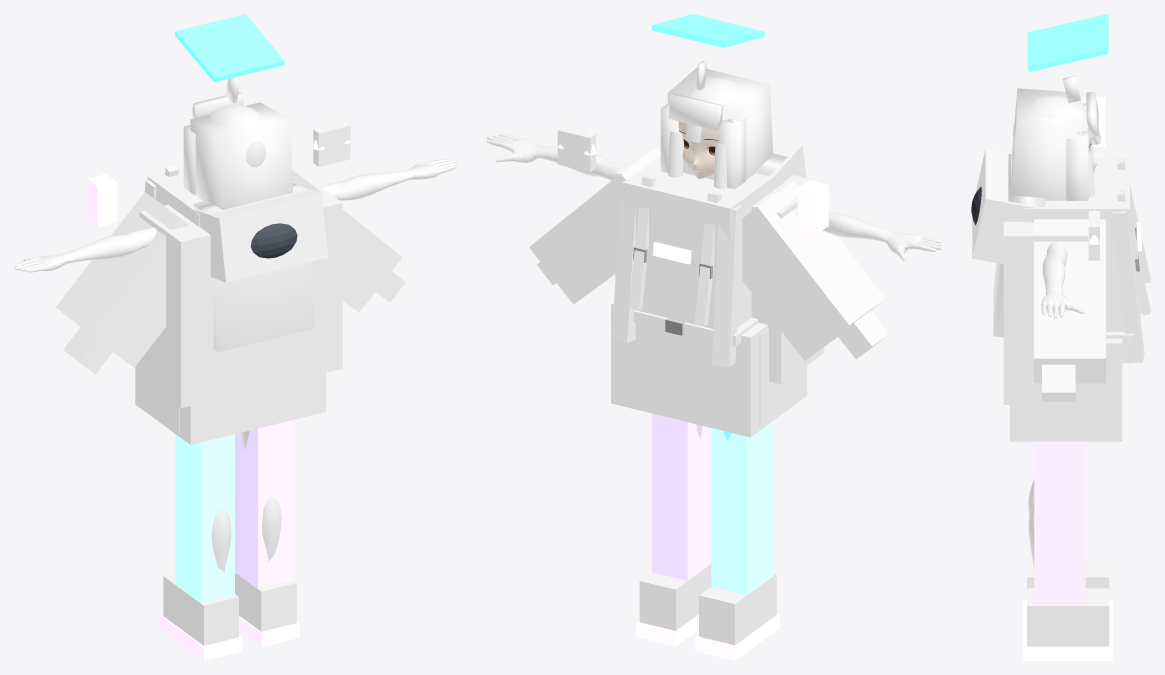
File: addy.glb
The picture shows the model from 3 angles, left to right: view 1: azimuth 30°, elevation 25°; view 2: azimuth 150°, elevation 25°; view 3: azimuth 270°, elevation 25°; orthographic projection. The views are drawn at different scales.
Parts seen in each view (by area): view 1: Geo_Jacket_Torso, Geo_Jacket_Sleeve_L, Geo_Stocking_L, Geo_Stocking_R, Body, Geo_Hair_Back, Geo_Hair_Back_Lower, Geo_Jacket_Hood, Geo_Skirt_Pleated, Geo_Prop_Halo, Geo_Jacket_Sleeve_R, Geo_Sneaker_L (+11 smaller); view 2: Geo_Jacket_Sleeve_L, Geo_Inner_Top, Geo_Skirt_Pleated, Geo_Stocking_L, Geo_Stocking_R, Geo_Jacket_Sleeve_R, Body, Geo_Sneaker_L, Geo_Hair_Back, Geo_Jacket_Lapel_L, Geo_Sneaker_R, Geo_Jacket_Torso (+17 smaller); view 3: Geo_Jacket_Sleeve_R, Geo_Stocking_R, Geo_Jacket_Torso, Geo_Skirt_Pleated, Geo_Hair_Back, Geo_Inner_Top, Geo_Sneaker_R, Geo_Jacket_Hood, Body, Geo_Prop_Halo, Geo_Jacket_Lapel_R, Geo_Hair_Side_R (+10 smaller).
Boxes of the visible parts, x1,y1,x2,y2 form: Geo_Jacket_Torso: [139, 172, 342, 407]; Geo_Jacket_Sleeve_L: [55, 192, 189, 367]; Geo_Stocking_L: [175, 434, 234, 602]; Geo_Stocking_R: [235, 420, 292, 588]; Body: [14, 105, 457, 572]; Geo_Hair_Back: [190, 102, 292, 209]; Geo_Hair_Back_Lower: [193, 183, 314, 351]; Geo_Jacket_Hood: [194, 185, 328, 282]; Geo_Skirt_Pleated: [135, 362, 326, 444]; Geo_Prop_Halo: [175, 14, 284, 82]; Geo_Jacket_Sleeve_R: [292, 170, 402, 312]; Geo_Sneaker_L: [163, 573, 238, 645]; Geo_Jacket_Sleeve_L: [742, 180, 885, 360]; Geo_Inner_Top: [623, 156, 783, 360]; Geo_Skirt_Pleated: [611, 302, 807, 437]; Geo_Stocking_L: [711, 421, 772, 595]; Geo_Stocking_R: [652, 413, 711, 580]; Geo_Jacket_Sleeve_R: [529, 147, 660, 304]; Body: [486, 78, 942, 438]; Geo_Sneaker_L: [699, 573, 776, 645]; Geo_Hair_Back: [667, 67, 773, 179]; Geo_Jacket_Lapel_L: [712, 205, 742, 367]; Geo_Sneaker_R: [639, 564, 711, 630]; Geo_Jacket_Torso: [615, 142, 823, 384]; Geo_Jacket_Sleeve_R: [1034, 219, 1105, 383]; Geo_Stocking_R: [1034, 441, 1085, 605]; Geo_Jacket_Torso: [1003, 221, 1087, 404]; Geo_Skirt_Pleated: [1010, 338, 1122, 441]; Geo_Hair_Back: [1011, 88, 1077, 200]; Geo_Inner_Top: [1025, 157, 1129, 363]; Geo_Sneaker_R: [1027, 588, 1109, 646]; Geo_Jacket_Hood: [972, 148, 1038, 264]; Body: [1012, 96, 1088, 568]; Geo_Prop_Halo: [1027, 14, 1108, 71]; Geo_Jacket_Lapel_R: [1111, 211, 1144, 362]; Geo_Hair_Side_R: [1066, 131, 1088, 200].
Size of the model in its own units: 1.39 by 1.78 by 0.4794.
Materials: 18 (7 with a texture image).
